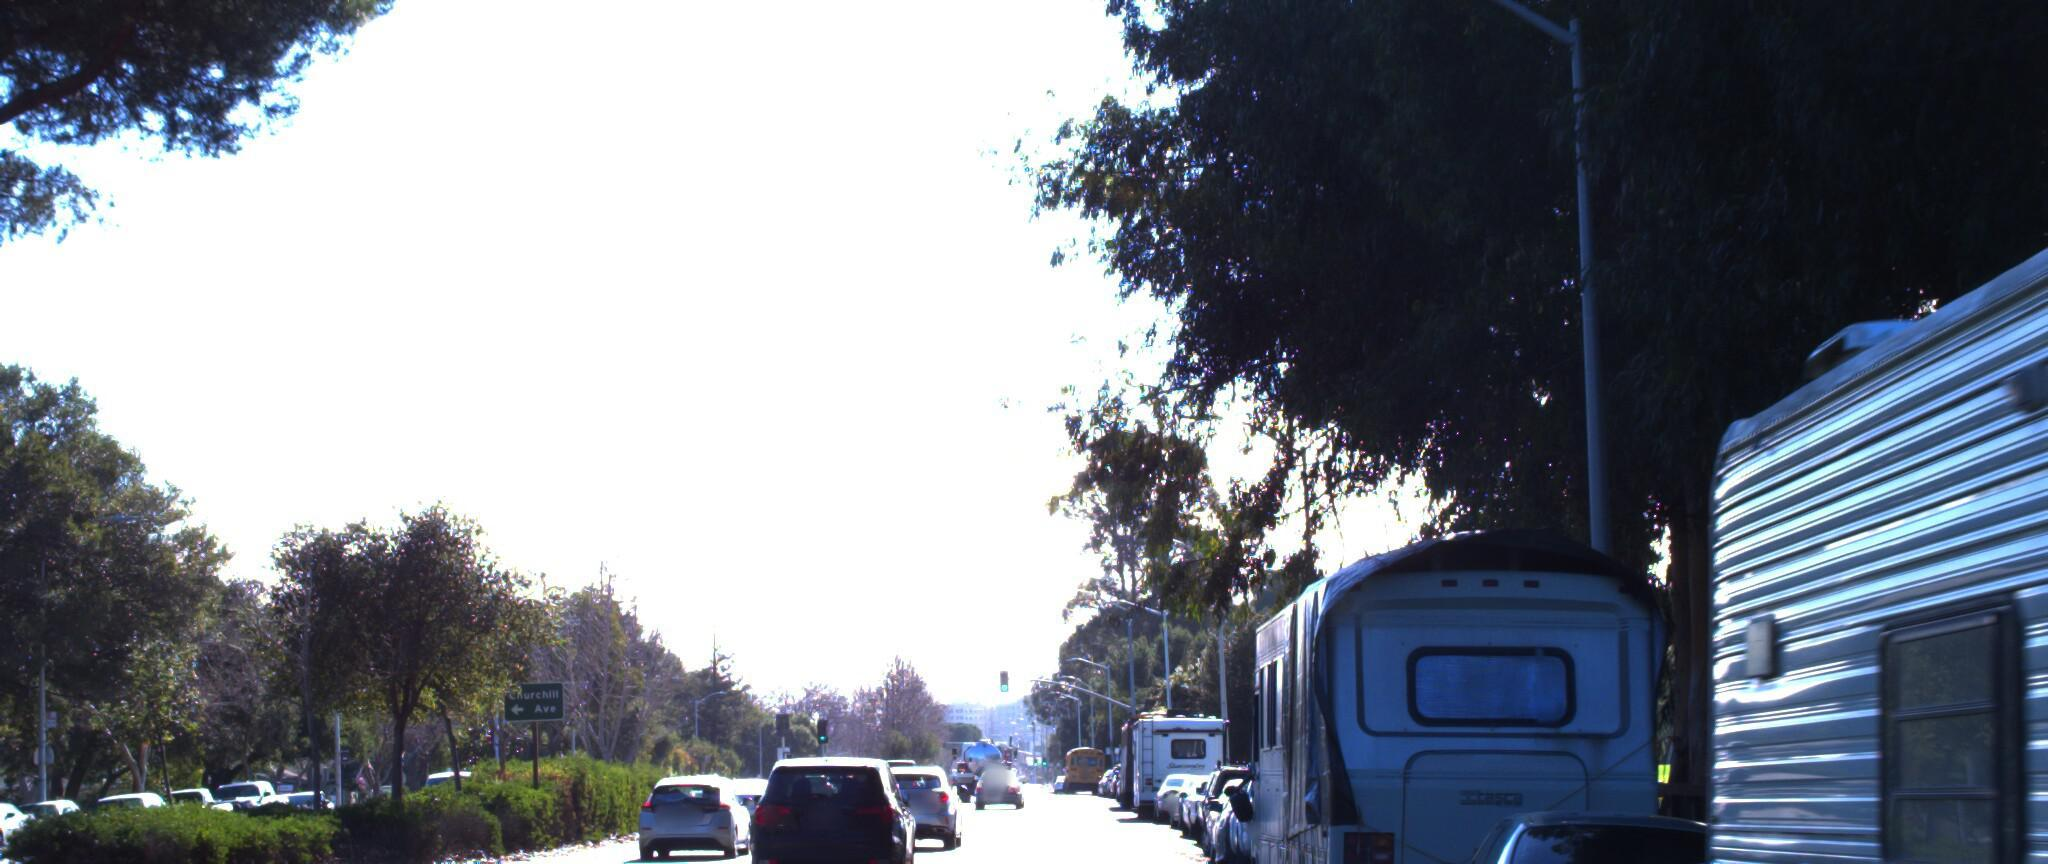car: (1417, 795, 1838, 864), (718, 756, 925, 864), (1520, 834, 2048, 864), (626, 753, 751, 843), (857, 767, 963, 850), (0, 764, 25, 864)
other_vehicle: (1597, 0, 2048, 864), (1241, 522, 1697, 864)
